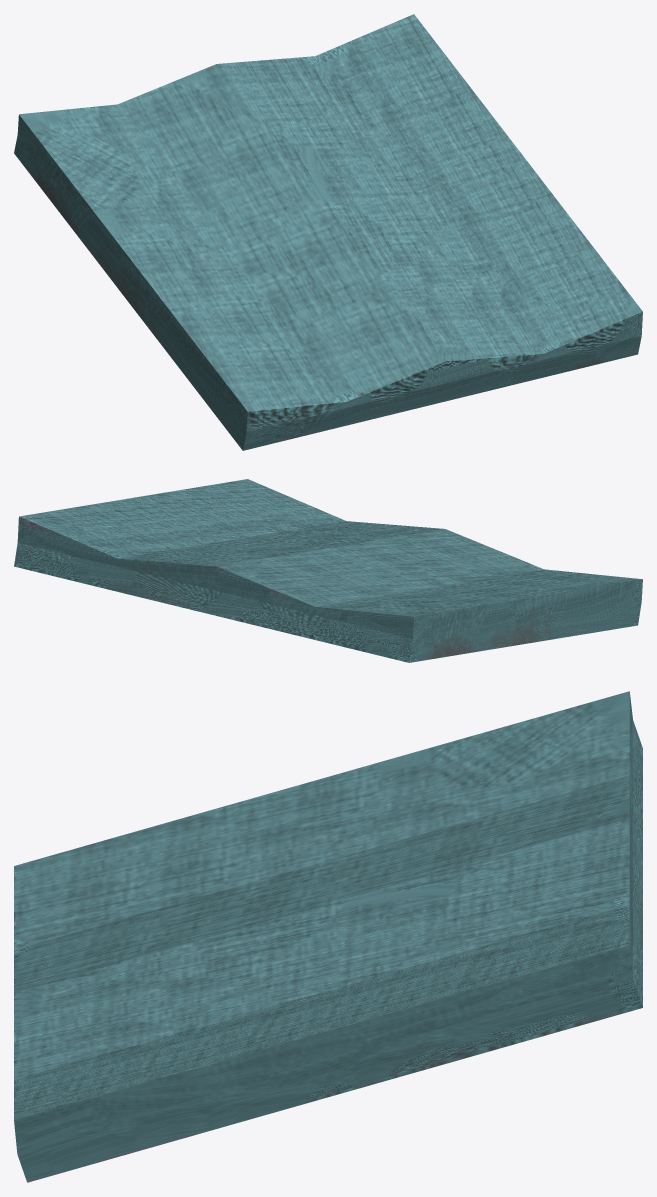
Rendered from house2.fbx.
The picture shows the model from 3 angles, top to bottom: view 1: azimuth 30°, elevation 25°; view 2: azimuth 150°, elevation 25°; view 3: azimuth 270°, elevation 25°; orthographic projection. The views are drawn at different scales.
Visible parts, largest first — view 1: pCube3; view 2: pCube3; view 3: pCube3.
Boxes of the visible parts, box(x1,y1,x2,y2) form: pCube3: box(14, 14, 642, 450); pCube3: box(14, 479, 642, 662); pCube3: box(14, 691, 642, 1182).
Size of the model in its own units: 5107 by 2180 by 5234.
Materials: 1 (1 with a texture image).
